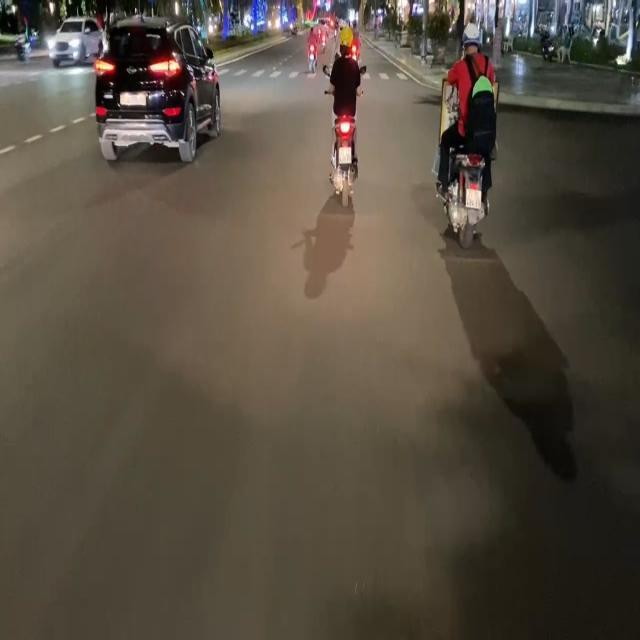walk-crossing: (218, 66, 332, 84), (364, 66, 410, 85)
